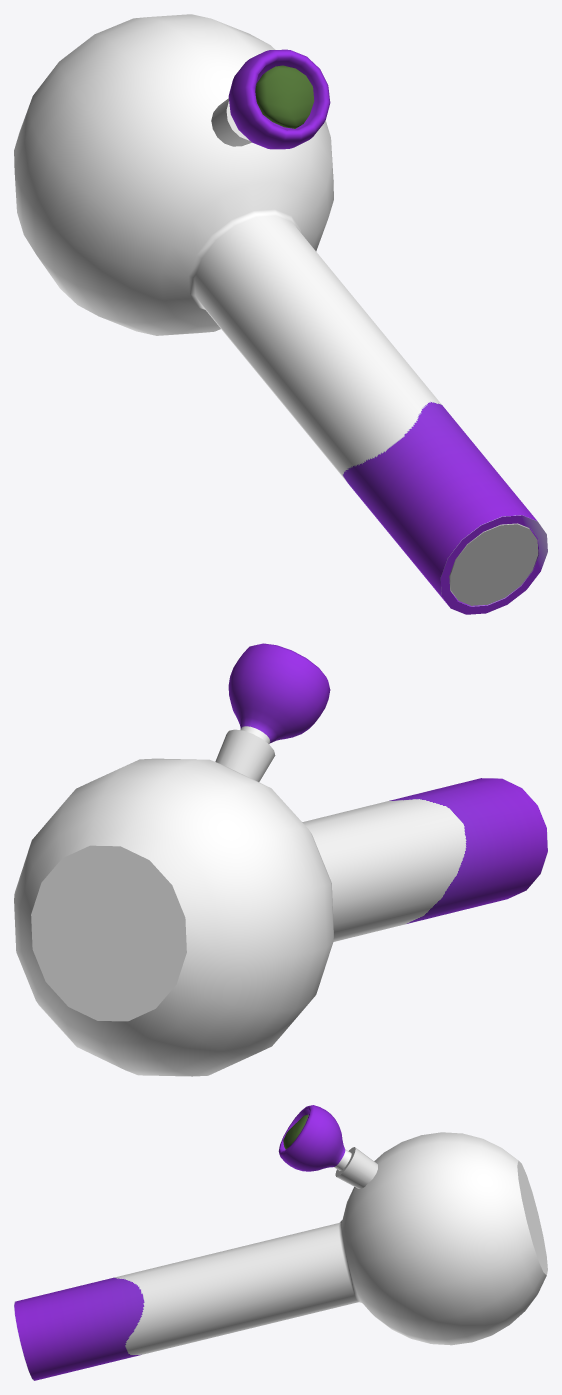
Rendered from Bong.fbx.
3 views of the same model, one above another, from view 1: azimuth 30°, elevation 25°; view 2: azimuth 150°, elevation 25°; view 3: azimuth 270°, elevation 25° (orthographic). The views are drawn at different scales.
Visible parts, largest first — view 1: BongBody, Carb, Smoke, Chronic; view 2: BongBody, Carb; view 3: BongBody, Carb, Chronic.
Boxes of the visible parts, bbox=[...] form: BongBody: bbox=[14, 14, 547, 614]; Carb: bbox=[211, 49, 330, 149]; Smoke: bbox=[449, 523, 538, 605]; Chronic: bbox=[255, 65, 314, 128]; BongBody: bbox=[14, 758, 547, 1076]; Carb: bbox=[215, 643, 330, 781]; BongBody: bbox=[14, 1132, 547, 1380]; Carb: bbox=[278, 1105, 377, 1188]; Chronic: bbox=[283, 1114, 308, 1149].
Size of the model in its own units: 2 by 2.78 by 5.
4 materials, 1 textured.
